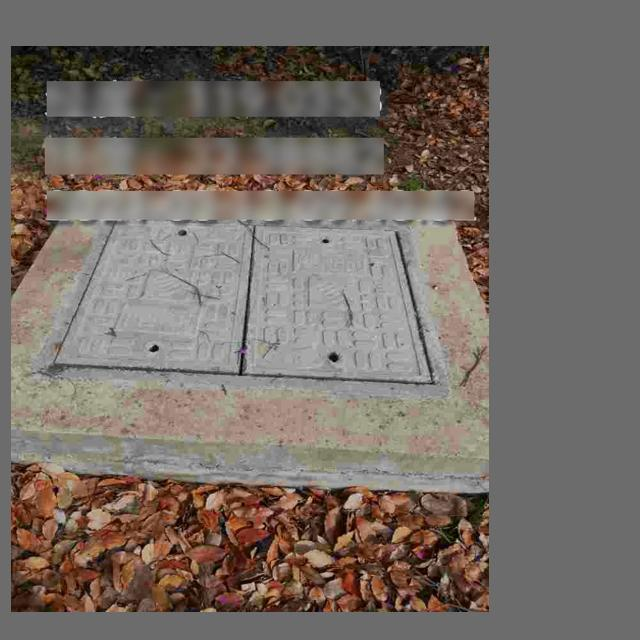good: (34, 211, 450, 394)
